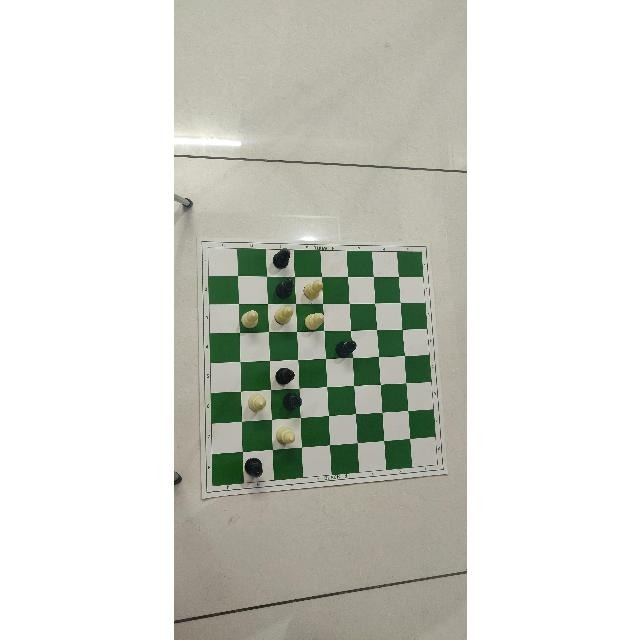black-bishop: (239, 451, 268, 483), (268, 244, 293, 271), (332, 335, 360, 358), (274, 364, 298, 388), (278, 392, 308, 411), (273, 275, 295, 300)
white-bishop: (275, 421, 301, 449), (272, 302, 296, 327), (239, 307, 263, 331), (300, 276, 323, 301), (246, 392, 271, 415), (302, 311, 329, 331)
